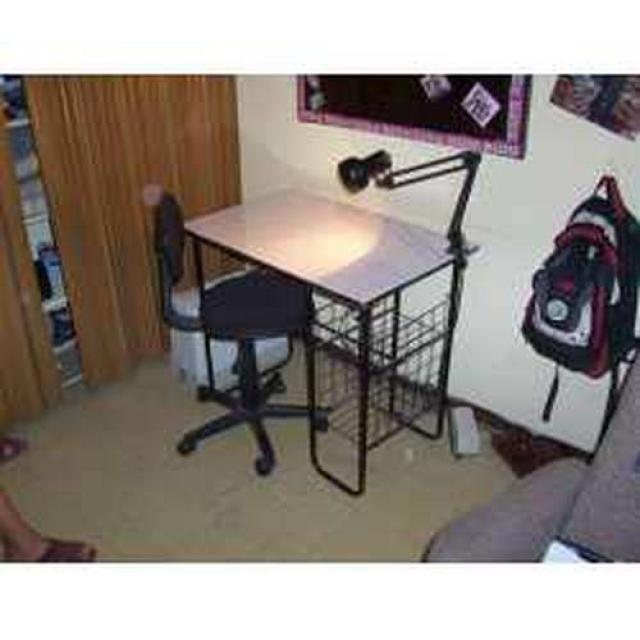swivelchair: (157, 198, 311, 471)
